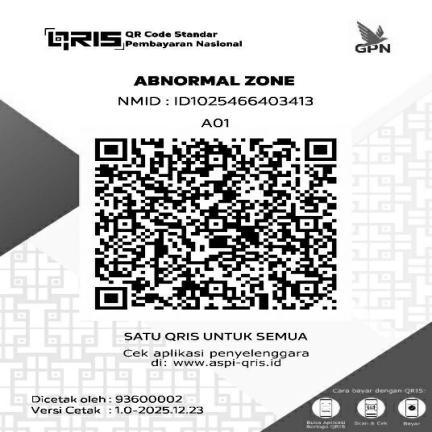Cara Pakai QRIS: (288, 384, 430, 431)
Cek Aplikasi Penyelenggara: (114, 347, 318, 371), (26, 394, 184, 403)
Logo GPN: (341, 16, 400, 58)
Logo dan deskripsi QRIS: (36, 22, 251, 53)
Nama Merchant: (122, 72, 303, 90)
National Merchant ID: (105, 92, 328, 111)
QR Code: (80, 135, 349, 318)
Slogan: (116, 329, 318, 343)
Terminal ID: (193, 117, 241, 132)
Versi Cetak: (26, 405, 206, 416)
